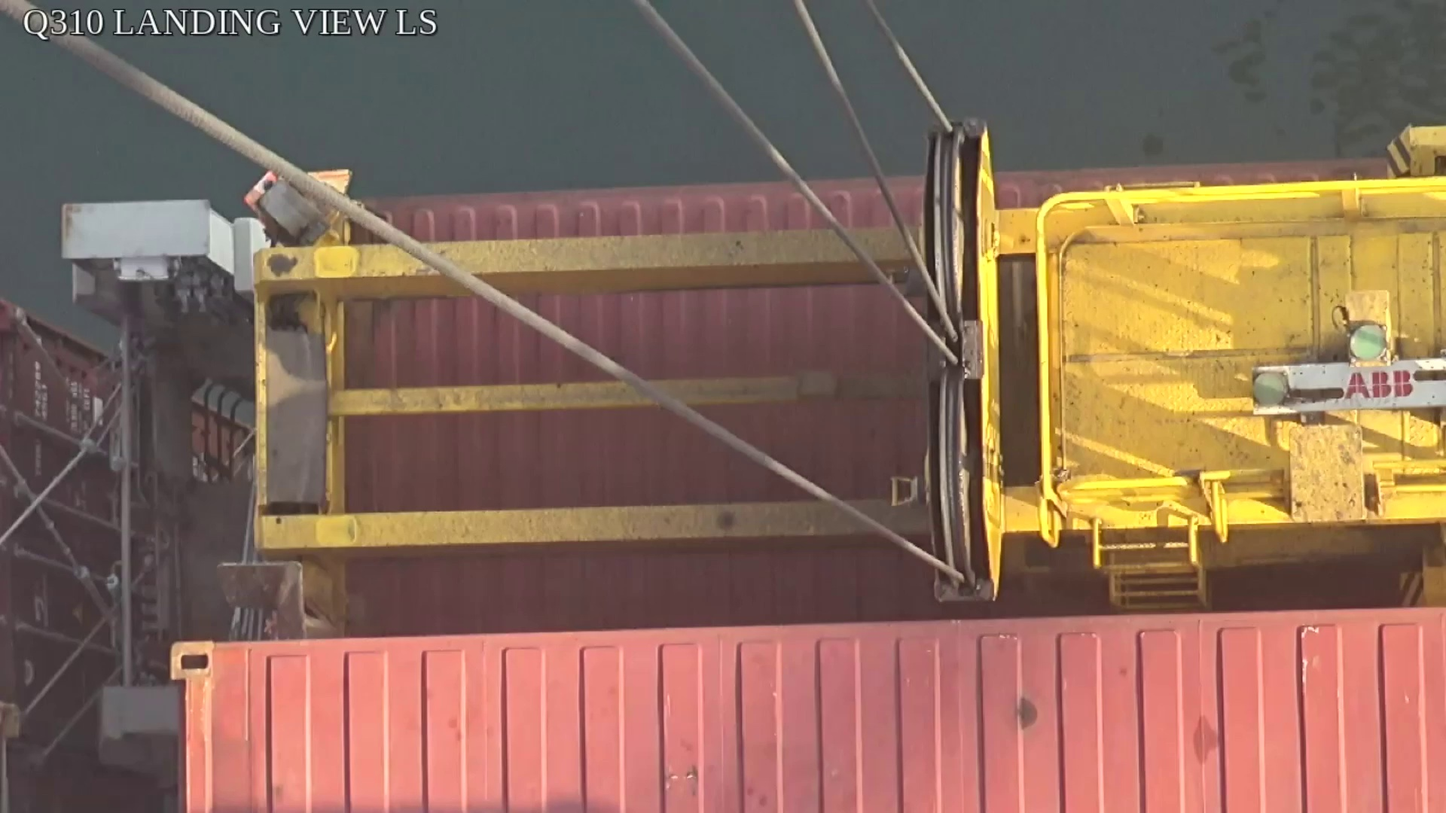left_gear: (925, 117, 1004, 596)
